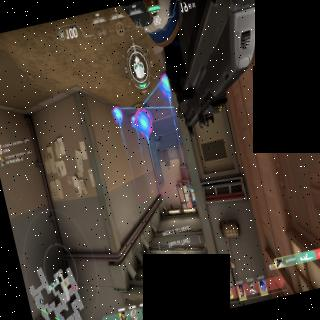ENEMY-BODY: (251, 98, 269, 124)
ENEMY-HEAD: (260, 118, 264, 124)
